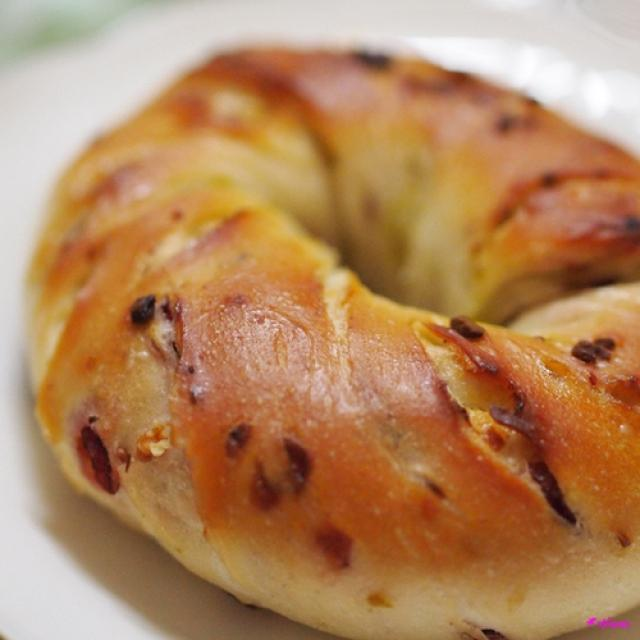面包点心: (29, 34, 631, 628)
